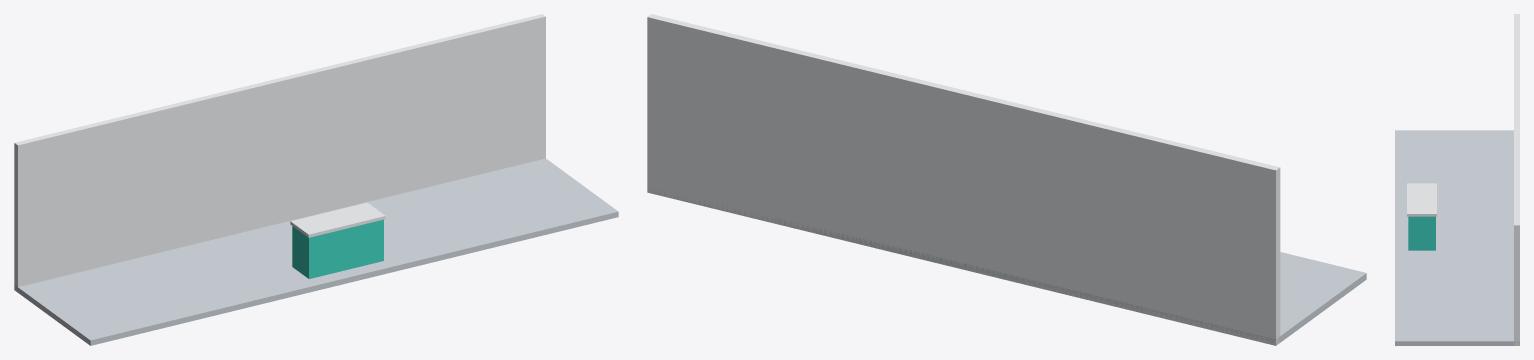
The picture shows the model from 3 angles, left to right: view 1: azimuth 30°, elevation 25°; view 2: azimuth 150°, elevation 25°; view 3: azimuth 270°, elevation 25°; orthographic projection. The views are drawn at different scales.
Visible parts, largest first — view 1: Exhibition Booth Concept; view 2: Exhibition Booth Concept; view 3: Exhibition Booth Concept.
Part boxes in pixels (x1,y1,x2,y2): Exhibition Booth Concept: (14,14,618,345); Exhibition Booth Concept: (647,14,1366,345); Exhibition Booth Concept: (1395,14,1519,345).
Size of the model in its own units: 12 by 3.2 by 3.
